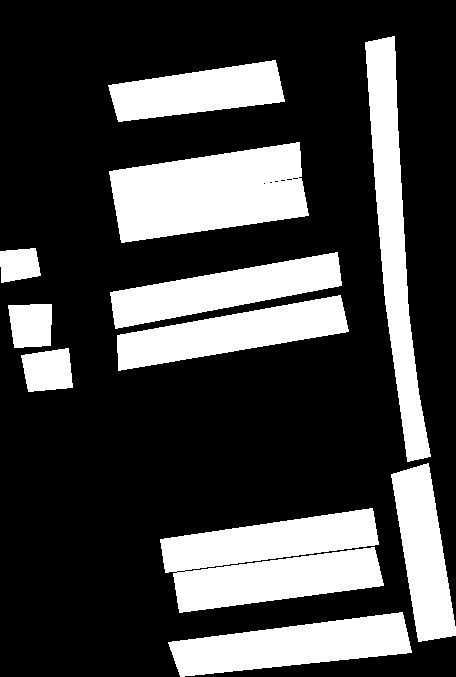parkingspot: (365, 36, 431, 462), (110, 252, 342, 329), (117, 295, 349, 371), (168, 612, 412, 677), (160, 508, 379, 573), (173, 547, 384, 613), (109, 142, 302, 209), (115, 178, 309, 243), (391, 463, 456, 642), (108, 60, 285, 122), (21, 348, 73, 392), (8, 304, 52, 348), (0, 248, 41, 283)
